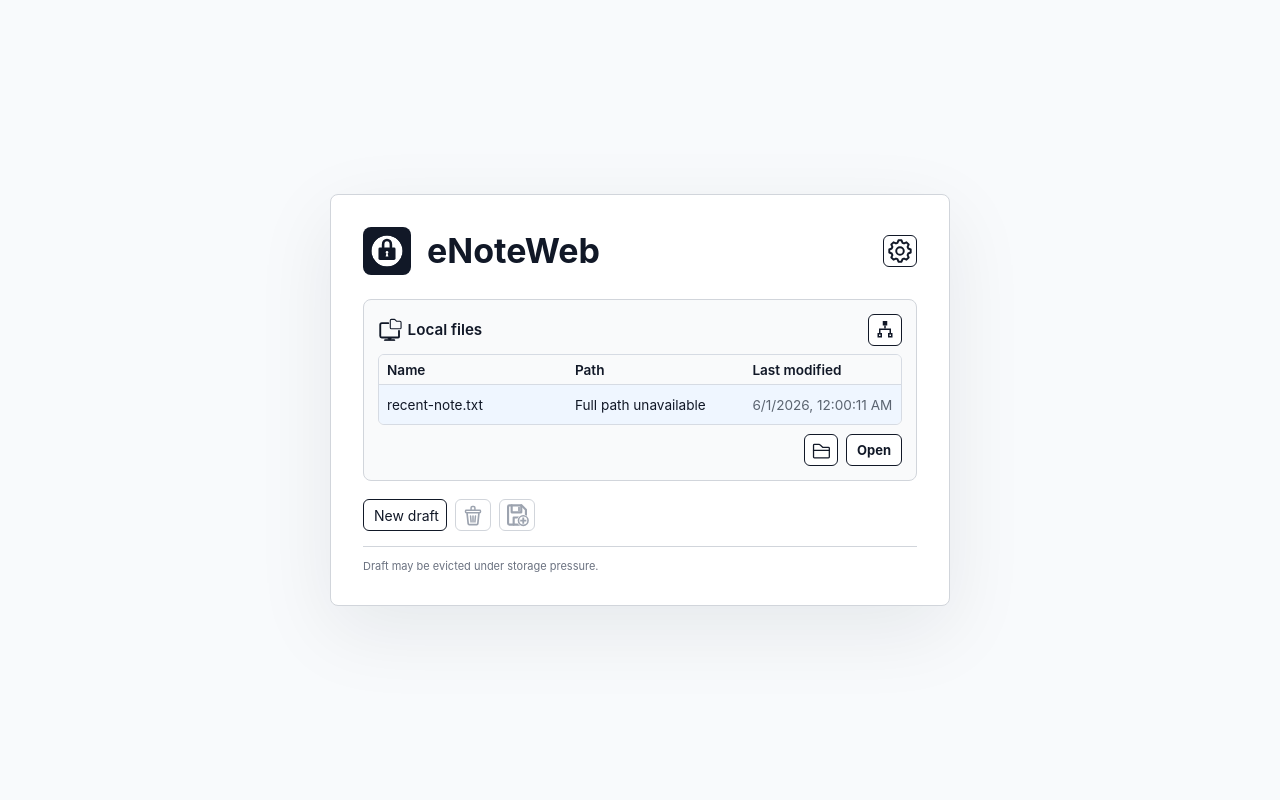
App local file home screen › home Save As lists a draft promoted after editing the draft session
Expected: the text "recent-note.txt" is shown, [379,385,567,424]
Click the button "New draft" at (405, 515), box [363,499,447,531]
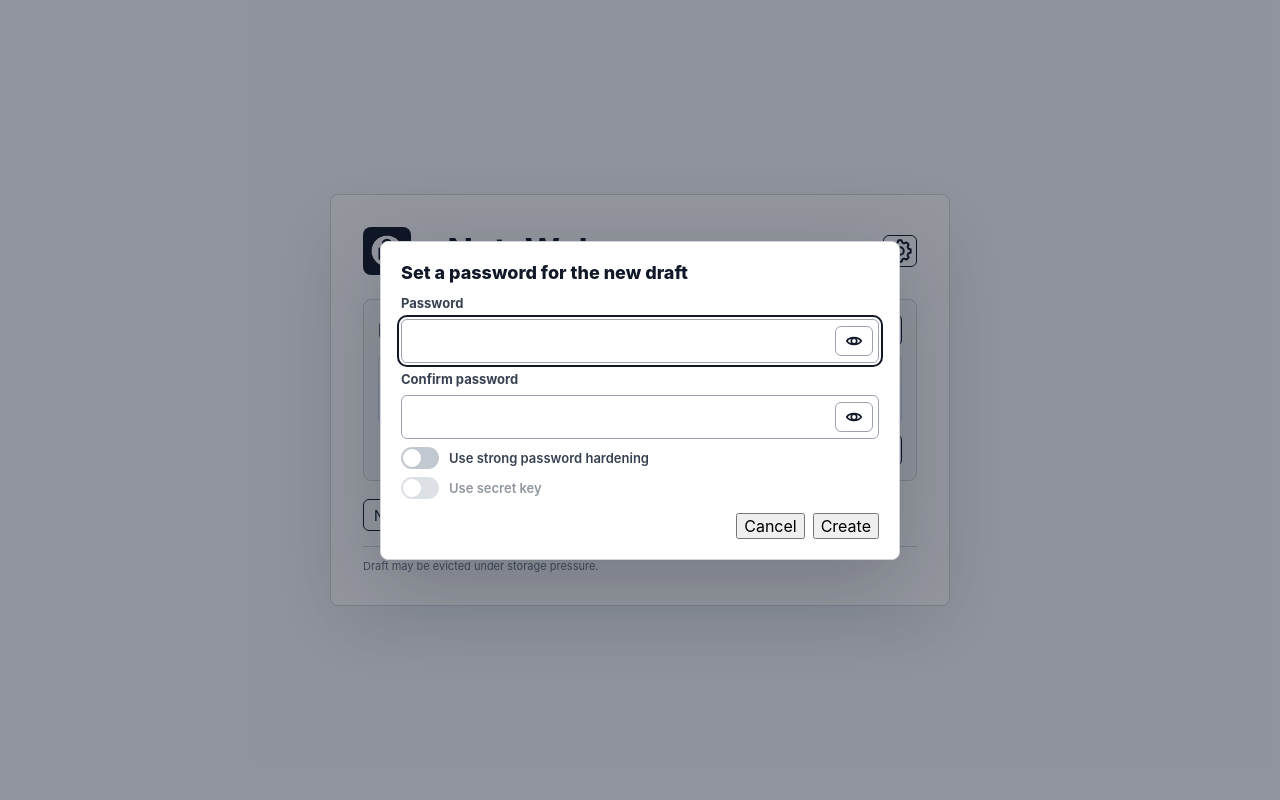
Now the heading "Set a password for the new draft" is shown, box [401,262,688,282]
Type "draft password" into the field labelled "Password" at (640, 340), box [401,318,879,362]
Type "draft password" into the field labelled "Confirm password" at (640, 416), box [401,394,879,438]
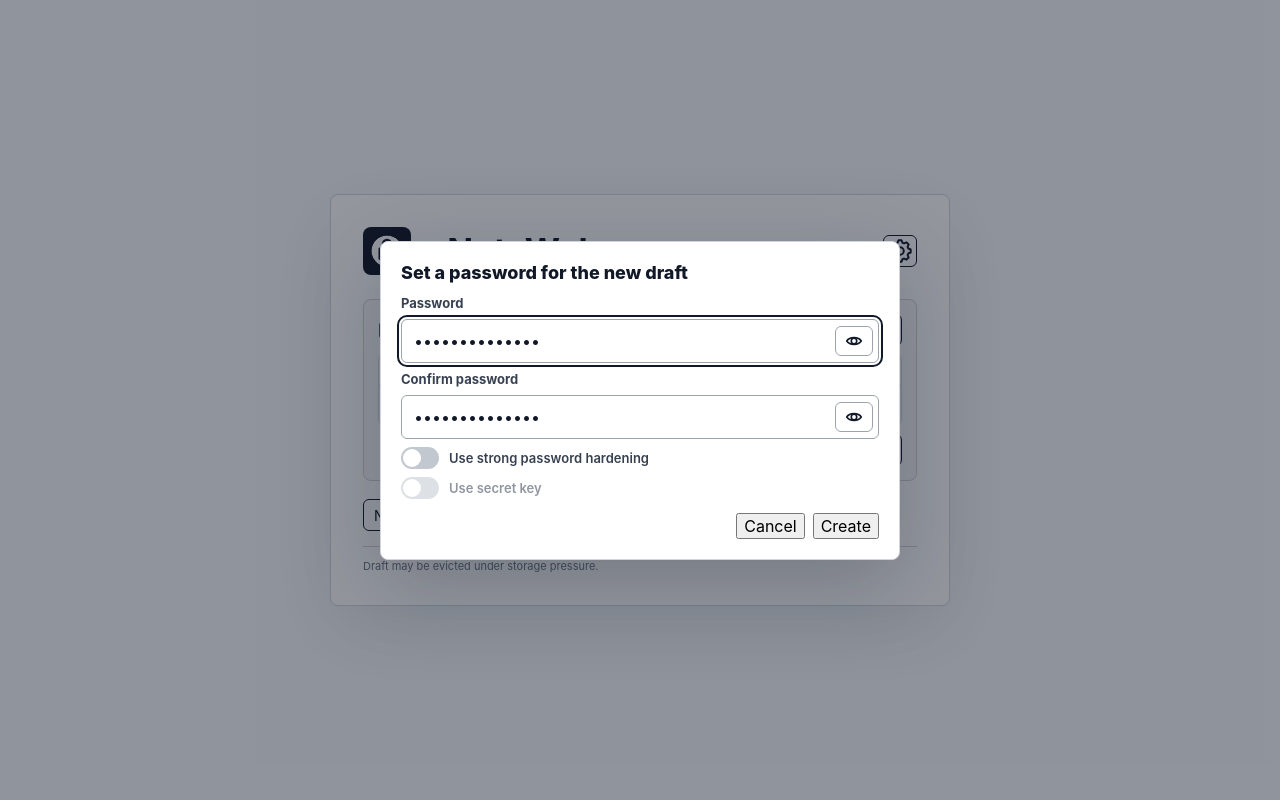
Click the button "Create" at (846, 526), box [813,512,879,538]
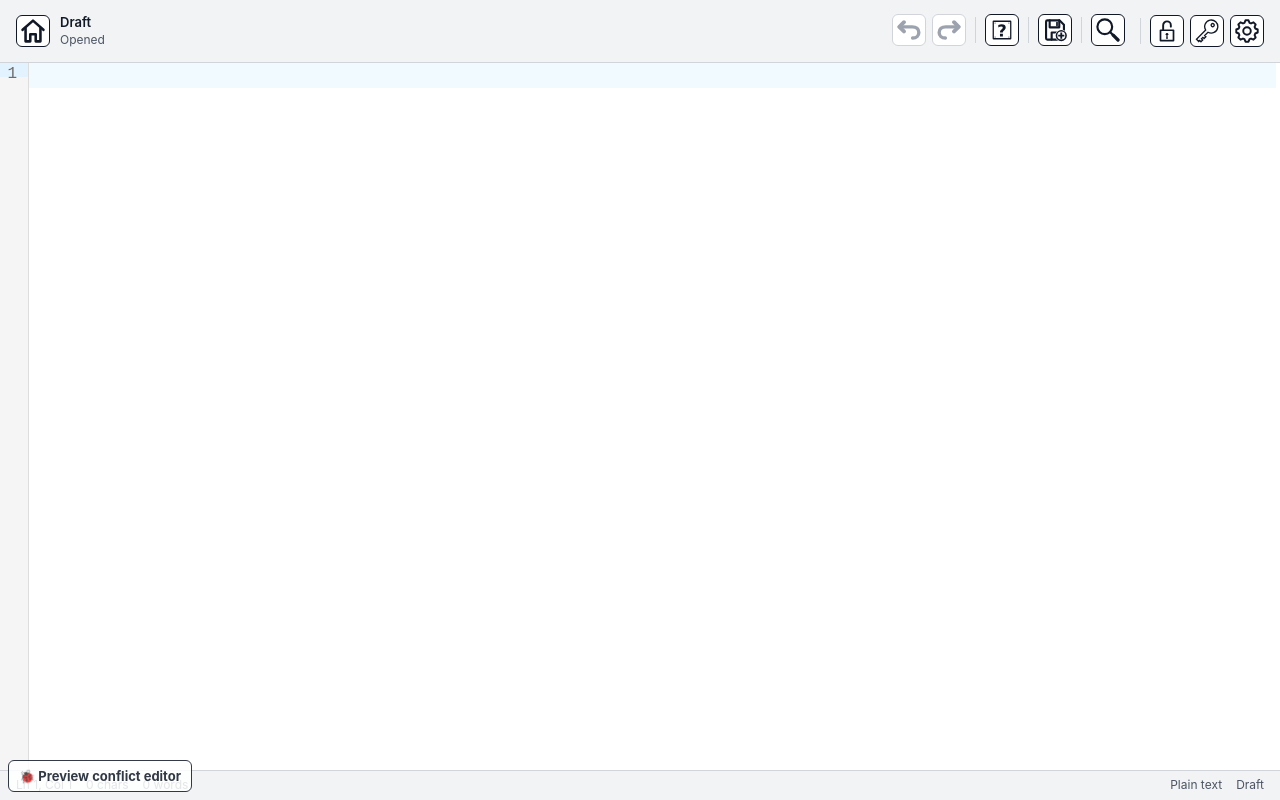
Click the button named "Home" at (33, 31), box [16,15,50,47]
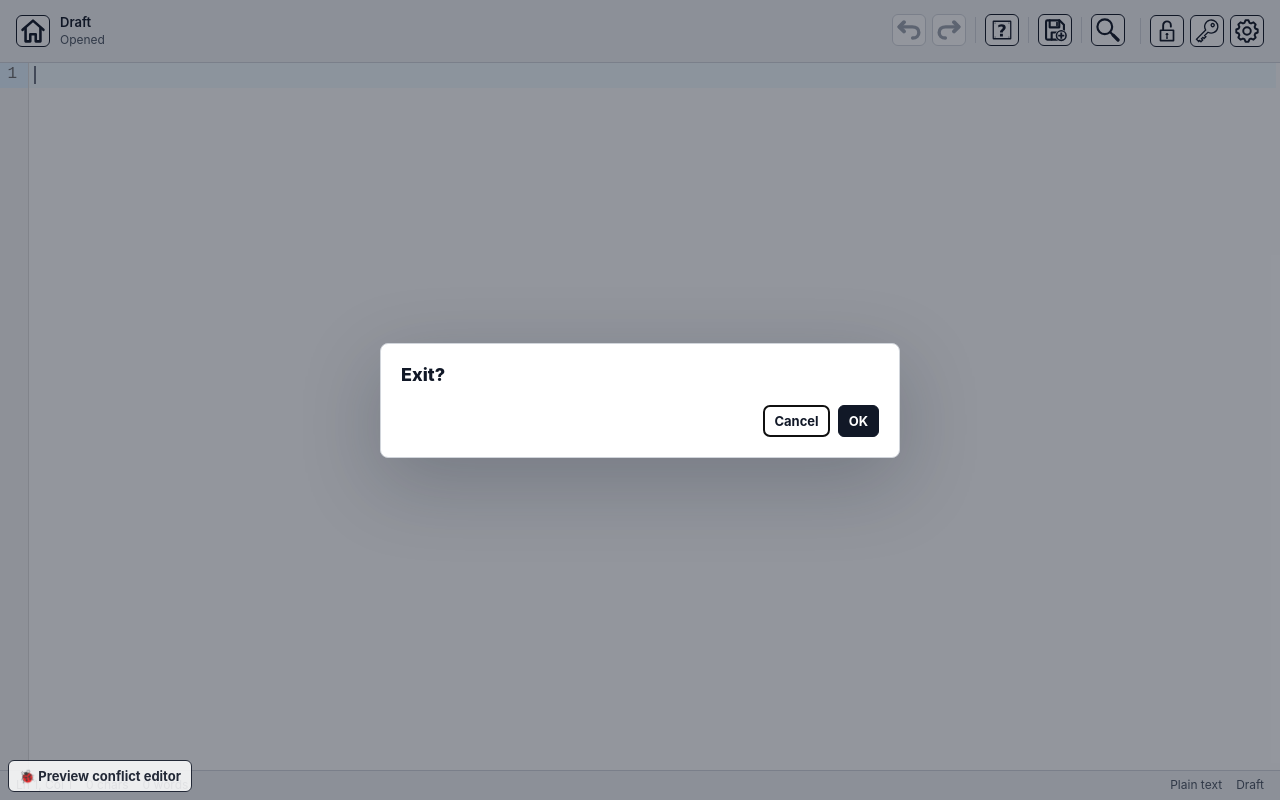
Click the button "OK" at (858, 420), box [838,404,879,436]
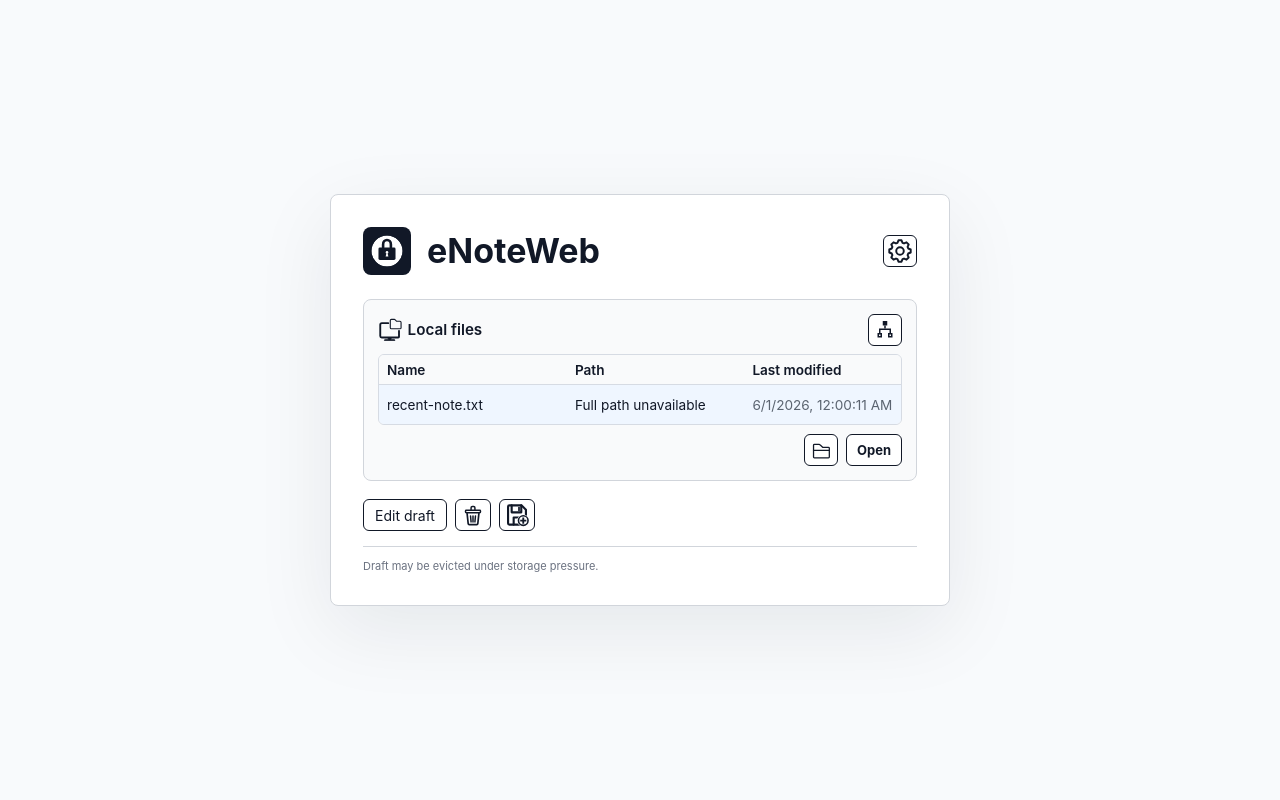
Now the button "Edit draft" is shown, box [363,499,447,531]
Click the button named "Save As" at (517, 515), box [499,499,535,531]
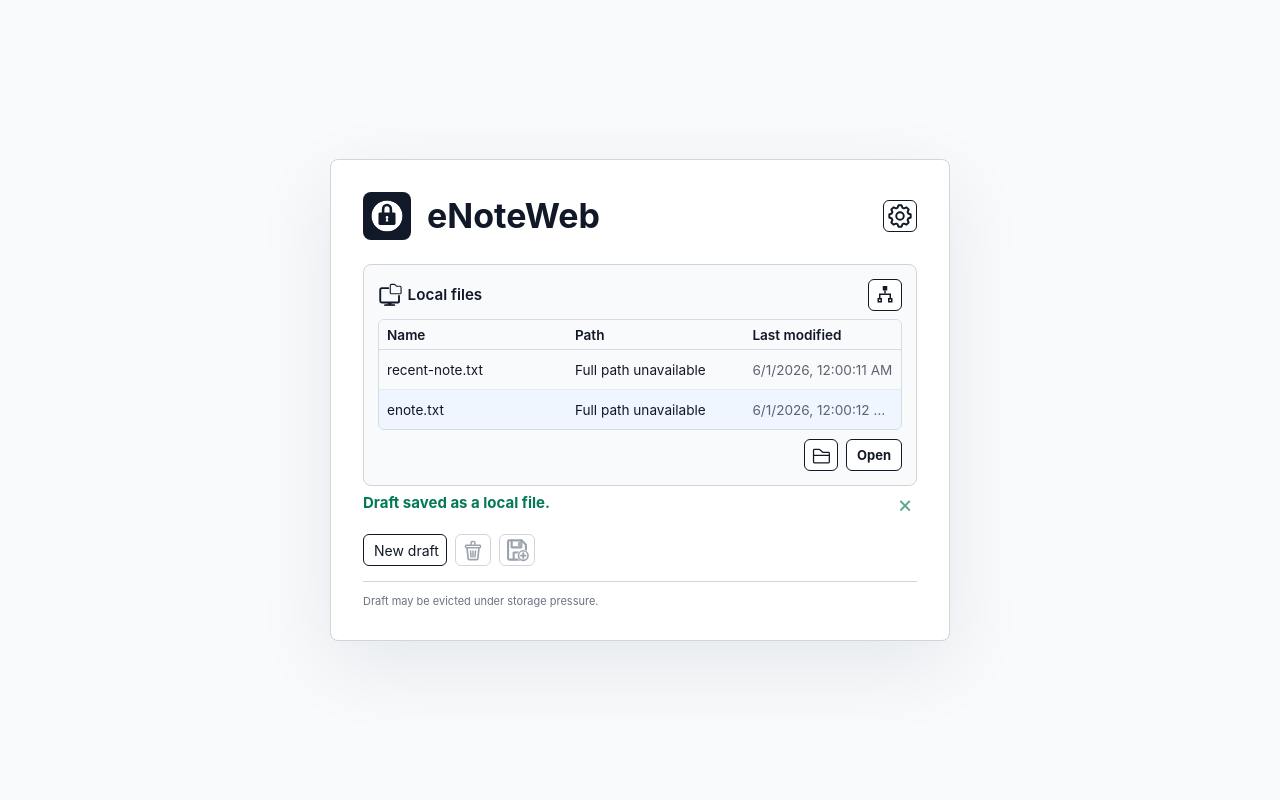
Now the text "Draft saved as a local file." is shown, box [363,493,550,512]
Now the text "enote.txt" is shown, box [379,390,567,429]
